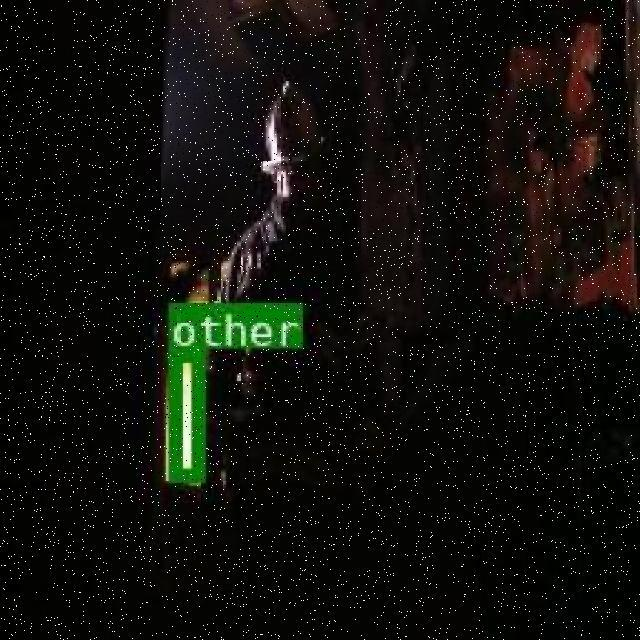other: (168, 346, 202, 479)
